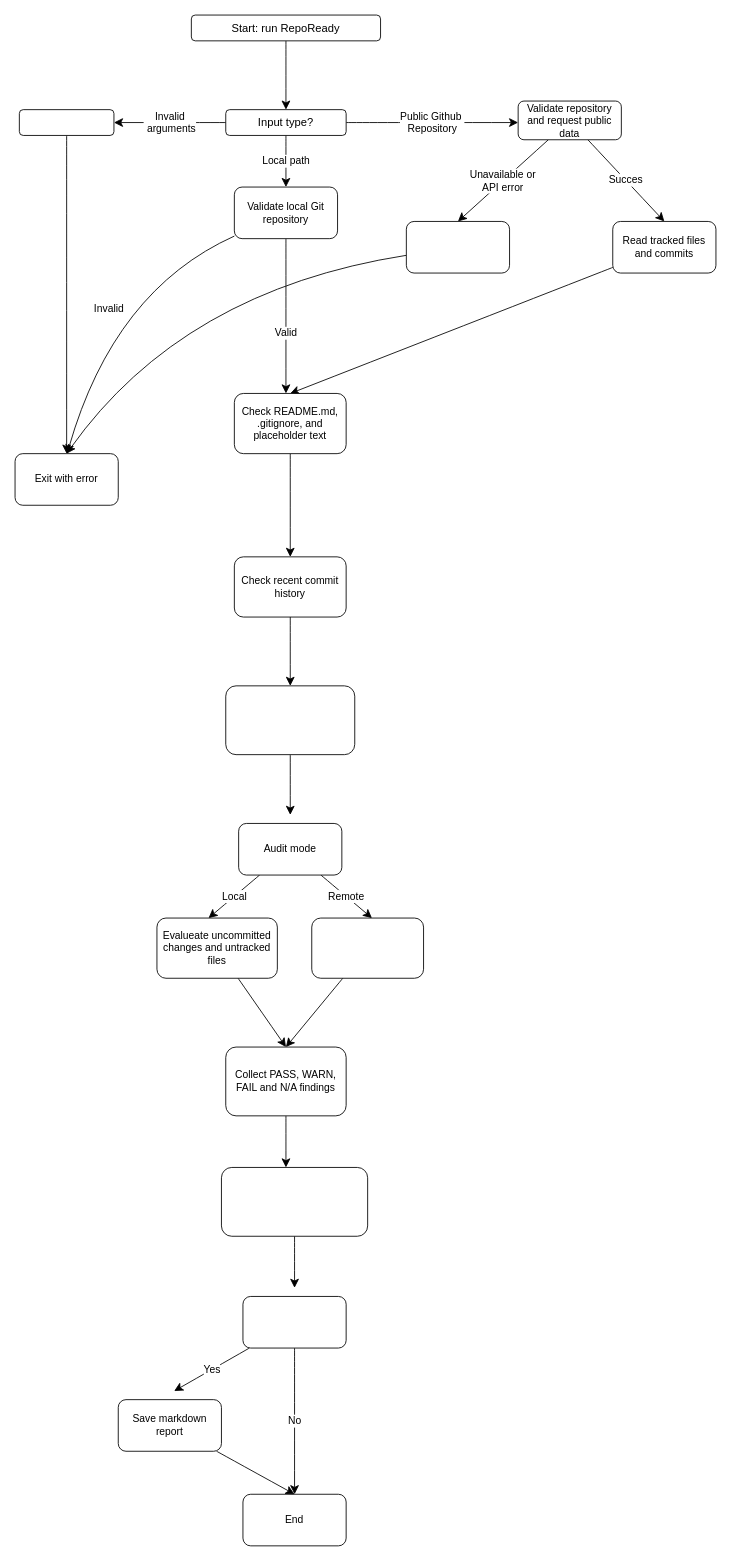
The diagram is 731 pixels wide and 1561 high, and some of its shapes have lost their labels. The centre of each missing label's shape, as x and y in pixels:
"Display input error" goes at point (66, 122).
"Display remote access error" goes at point (457, 247).
"Display technical report" goes at point (294, 1201).
"Flag potentially sensitive tracked files" goes at point (290, 720).
"Mark wording-tree check N/A" goes at point (367, 947).
"Markdown export requested?" goes at point (294, 1322).
